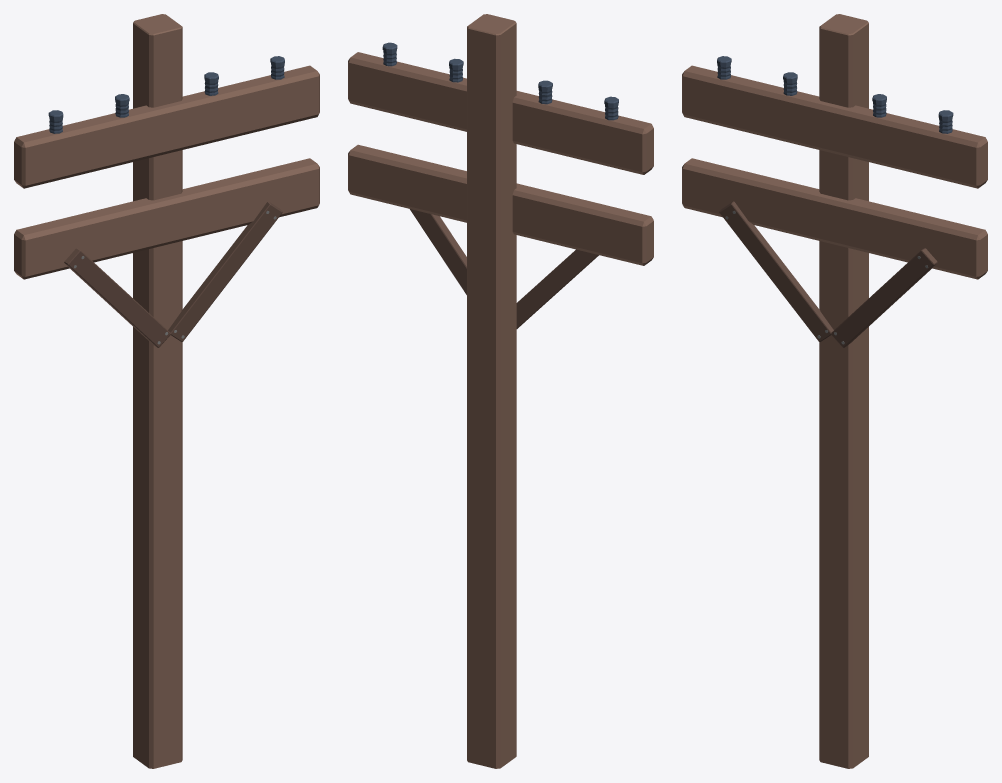
Rendered from SM_Powerline4.glb.
3 views of the same model, side by side, from view 1: azimuth 30°, elevation 25°; view 2: azimuth 150°, elevation 25°; view 3: azimuth 330°, elevation 25° (orthographic).
Parts seen in each view (by area): view 1: M.PowerLine4; view 2: M.PowerLine4; view 3: M.PowerLine4.
Boxes of the visible parts, x1,y1,x2,y2 form: M.PowerLine4: [14, 14, 319, 768]; M.PowerLine4: [348, 14, 653, 768]; M.PowerLine4: [682, 14, 987, 768].
Bounding box in the file's own units: 6.55 × 15.4 × 1.05.
1 material, 1 textured.
